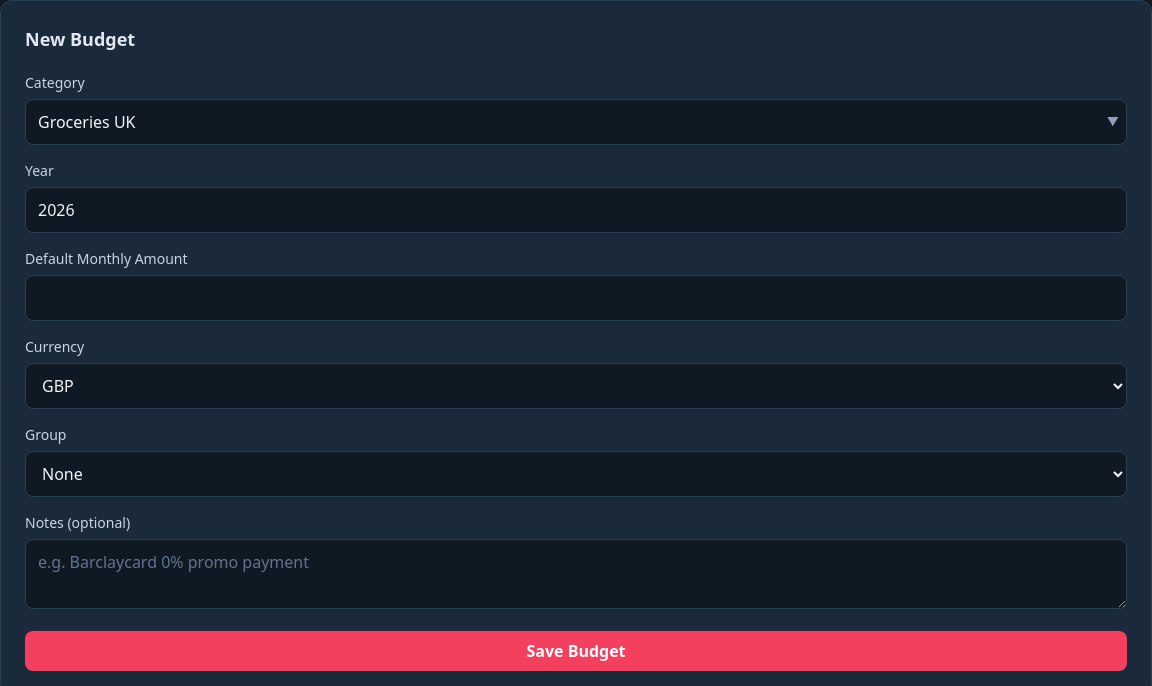
it: AddBudgetForm › shows error message when submission fails
Expected: the dropdown showing "Groceries UK" is shown, top-left (25, 99), bottom-right (1127, 145)
Type "100" into the number field labelled "Default Monthly Amount" at [576, 298], box top-left (25, 275), bottom-right (1127, 321)
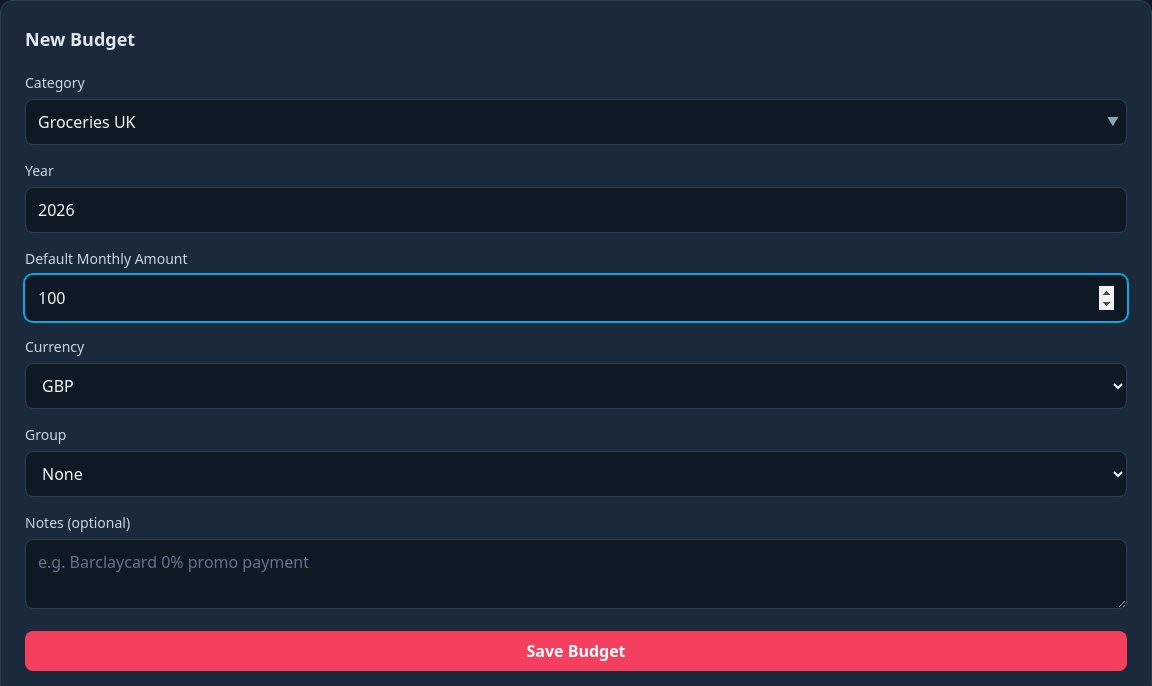
Click the button "Save Budget" at [576, 651], box top-left (25, 631), bottom-right (1127, 671)
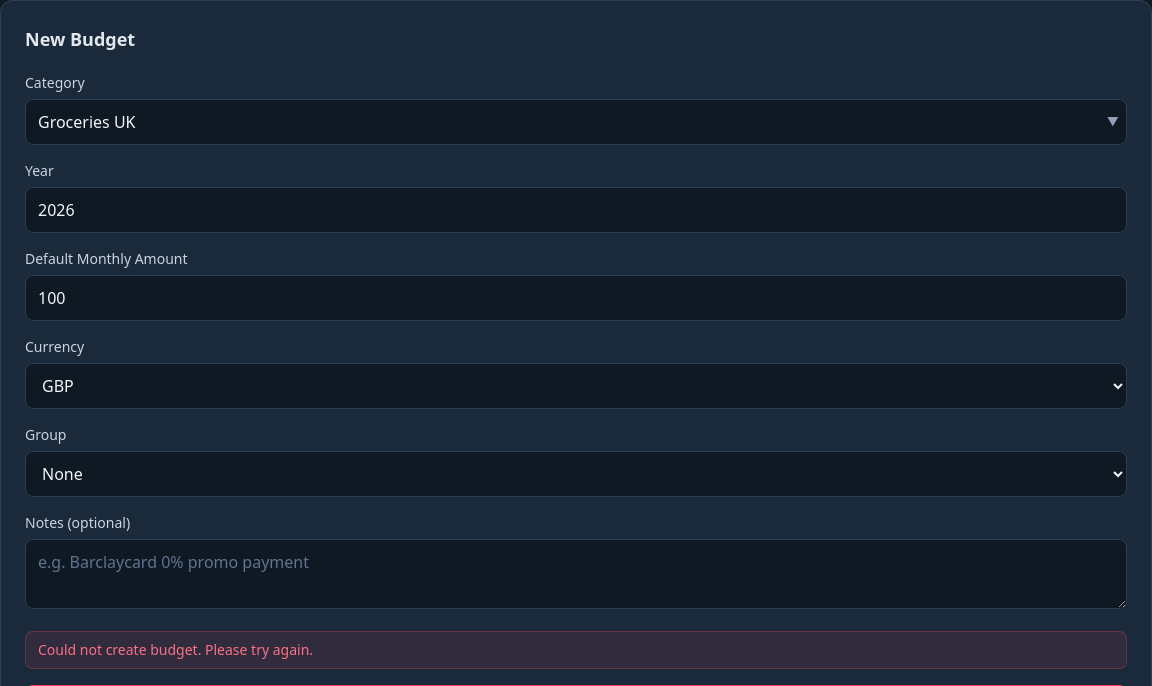
Expected: the text "Could not create budget. Please try again." is shown, top-left (38, 640), bottom-right (313, 659)
